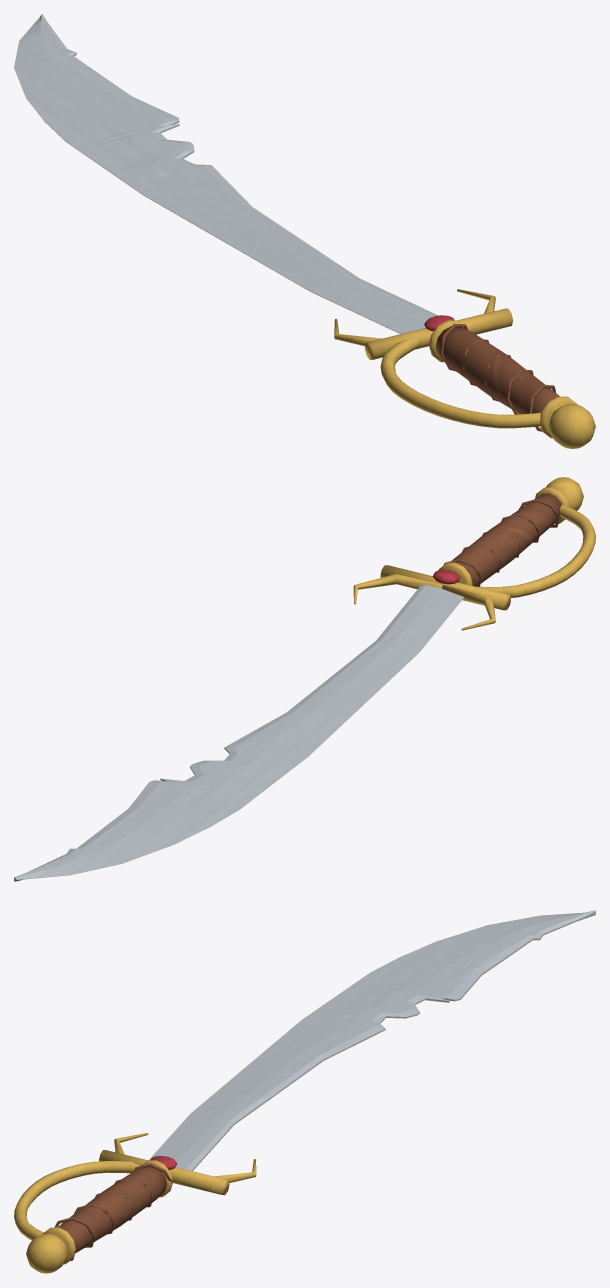
File: item_cutlass2.glb
3 renders of one model, top to bottom at view 1: azimuth 30°, elevation 25°; view 2: azimuth 150°, elevation 25°; view 3: azimuth 330°, elevation 25°, orthographic. The views are drawn at different scales.
Visible parts, largest first — view 1: swords_cutlass2; view 2: swords_cutlass2; view 3: swords_cutlass2.
Part boxes in pixels (bbox=[...]): swords_cutlass2: bbox=[14, 14, 595, 448]; swords_cutlass2: bbox=[14, 477, 595, 881]; swords_cutlass2: bbox=[14, 910, 595, 1273].
Size of the model in its own units: 0.2336 by 0.059 by 1.37.
1 material, 1 textured.
